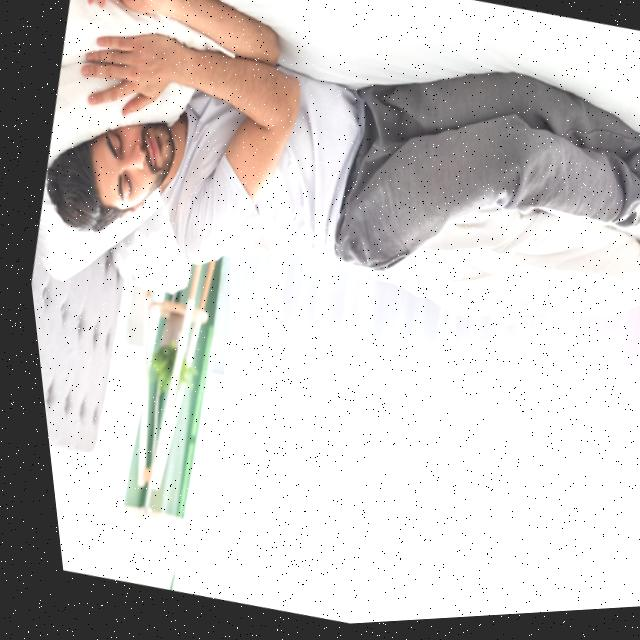sleeping-person: (7, 0, 640, 406)
